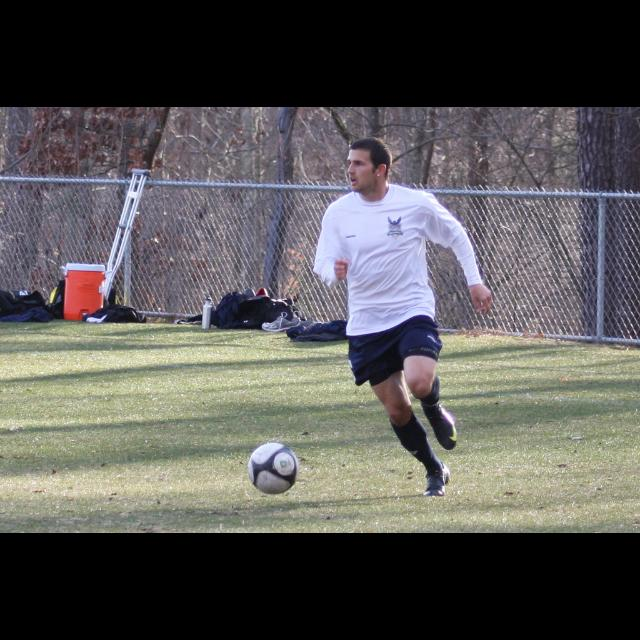Football: (248, 440, 298, 490)
